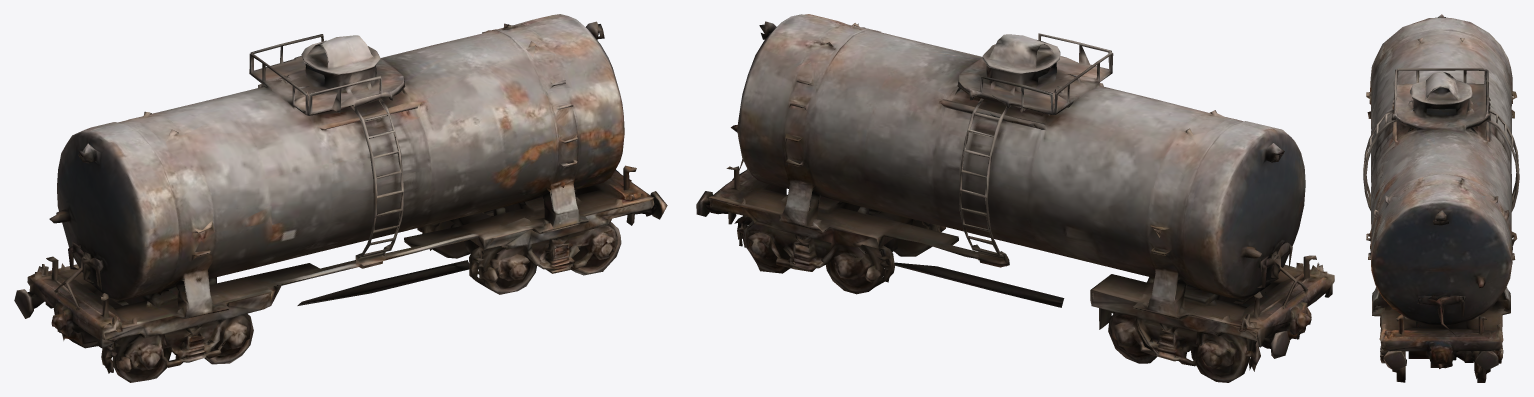
Rendered from rd_tankcar.glb.
3 views of the same model, side by side, from view 1: azimuth 30°, elevation 25°; view 2: azimuth 150°, elevation 25°; view 3: azimuth 270°, elevation 25° (orthographic). The views are drawn at different scales.
Parts seen in each view (by area): view 1: tripo_node_99296fe9-7064-40b7-abe8-c7d46087682c; view 2: tripo_node_99296fe9-7064-40b7-abe8-c7d46087682c; view 3: tripo_node_99296fe9-7064-40b7-abe8-c7d46087682c.
Boxes of the visible parts, x1=… form: tripo_node_99296fe9-7064-40b7-abe8-c7d46087682c: x1=14, y1=14, x2=667, y2=382; tripo_node_99296fe9-7064-40b7-abe8-c7d46087682c: x1=696, y1=14, x2=1334, y2=382; tripo_node_99296fe9-7064-40b7-abe8-c7d46087682c: x1=1363, y1=14, x2=1519, y2=382.
Size of the model in its own units: 0.9769 by 0.4345 by 0.2873.
Materials: 1 (1 with a texture image).
